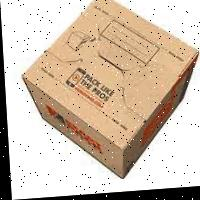cube: (17, 0, 200, 184)
